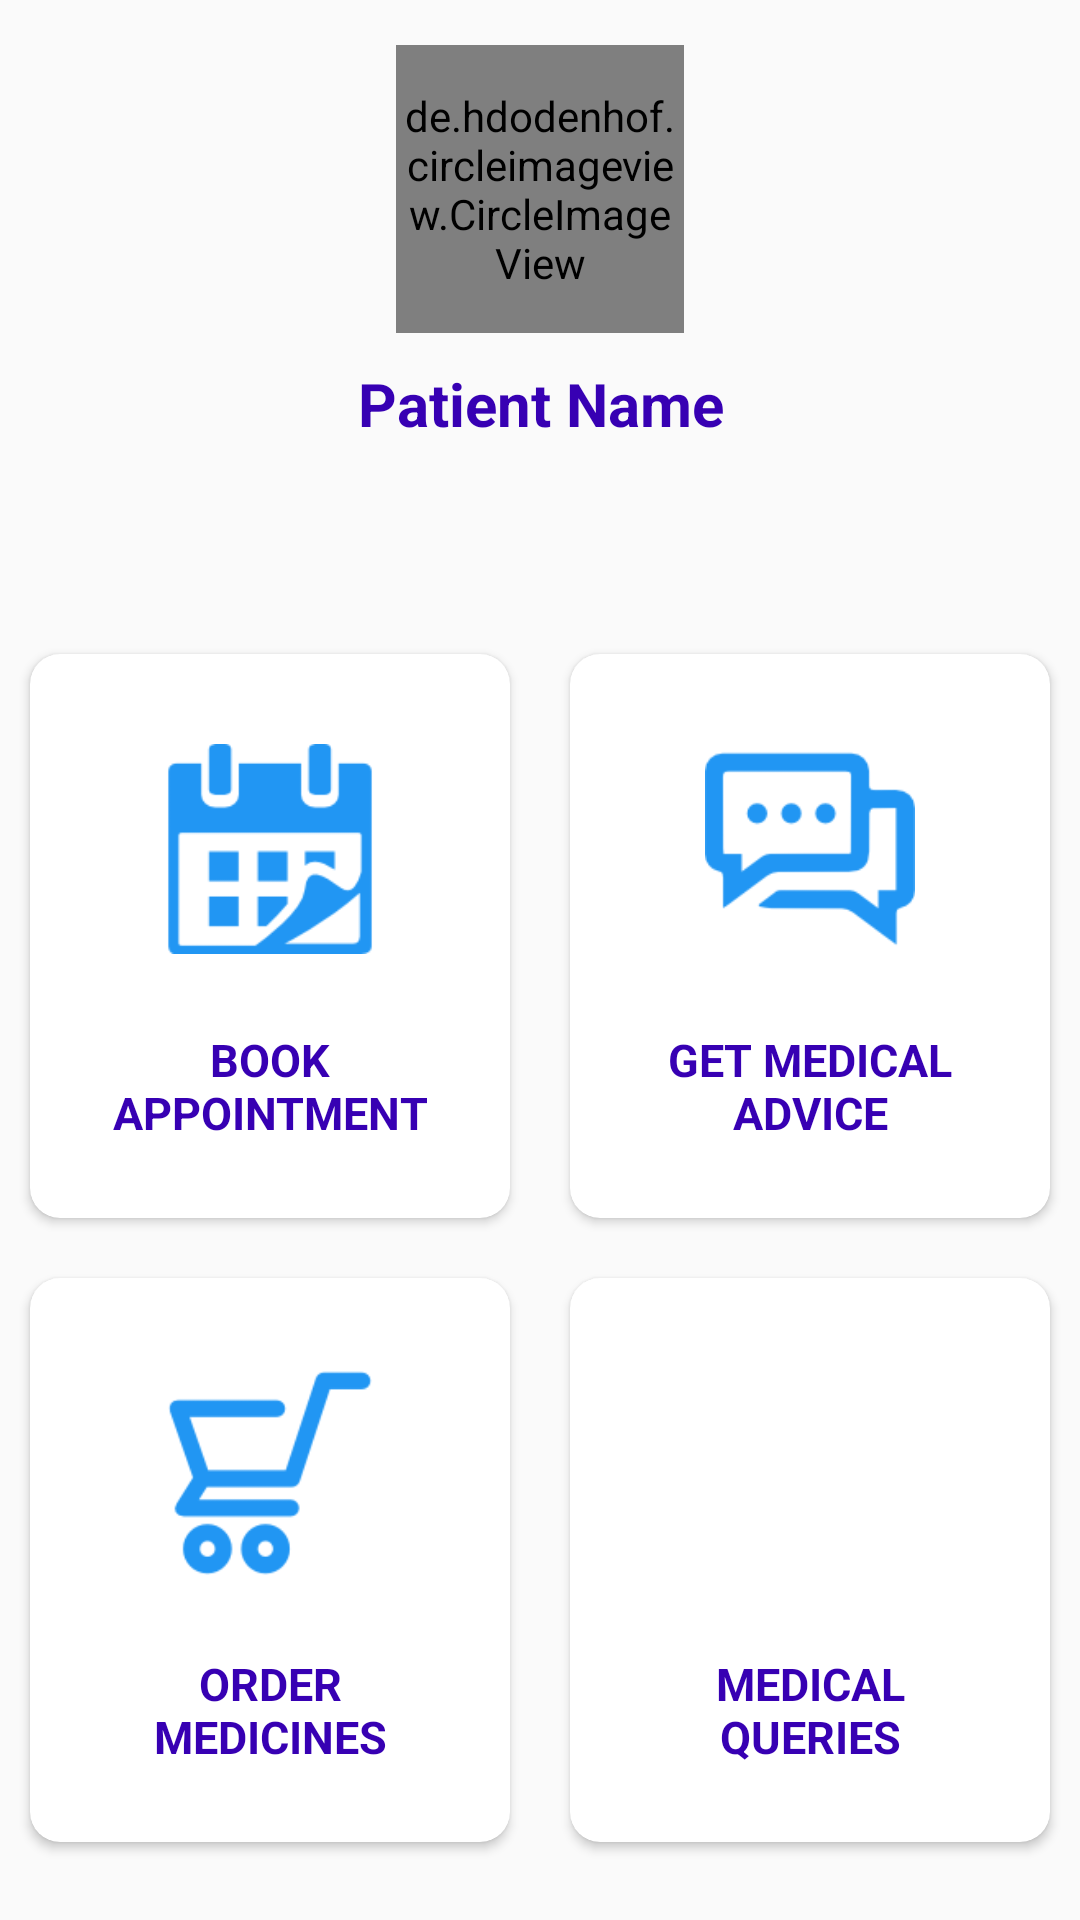

Screen size 1080*1920. Icon name, then its center in pixels as (x,y):
chat: (810,848)
shopping cart: (270,1473)
